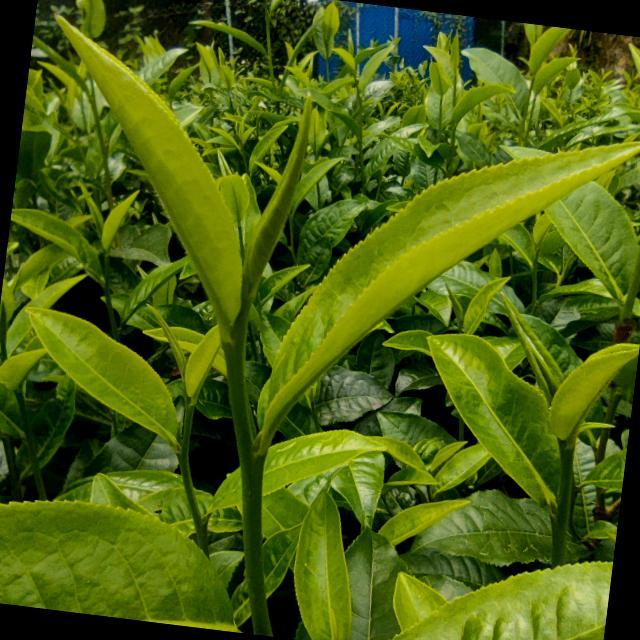Stem: (225, 338, 245, 362), (559, 442, 575, 457), (594, 451, 605, 459), (186, 406, 194, 413)
